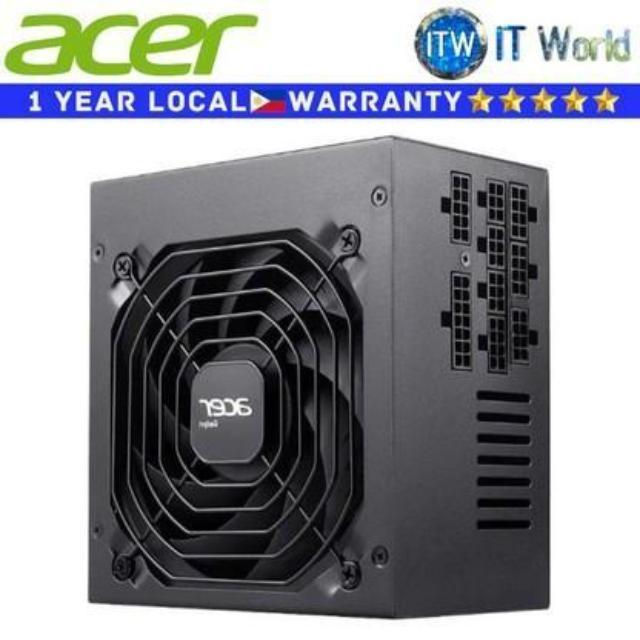PSU: (71, 129, 569, 623)
